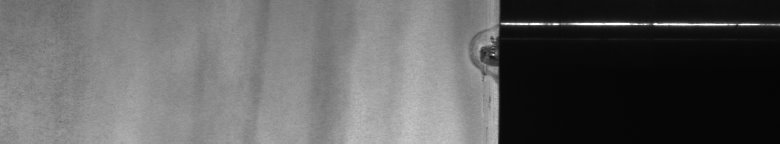hb: (464, 21, 488, 84)
